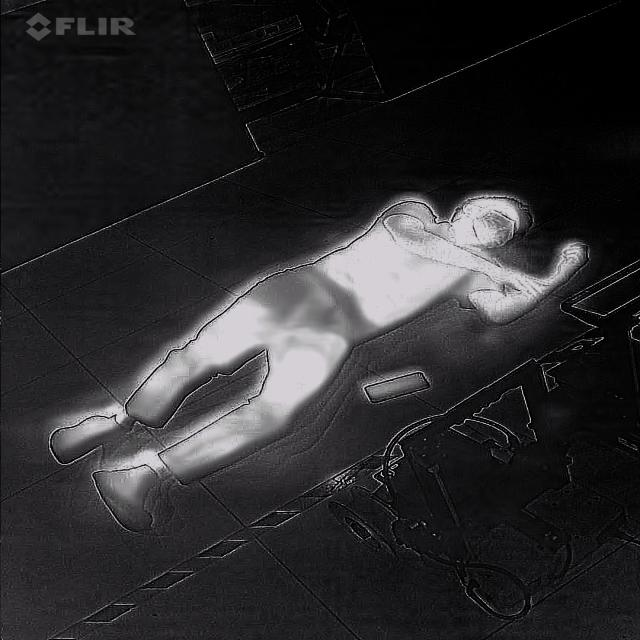Victim: (45, 190, 598, 542)
